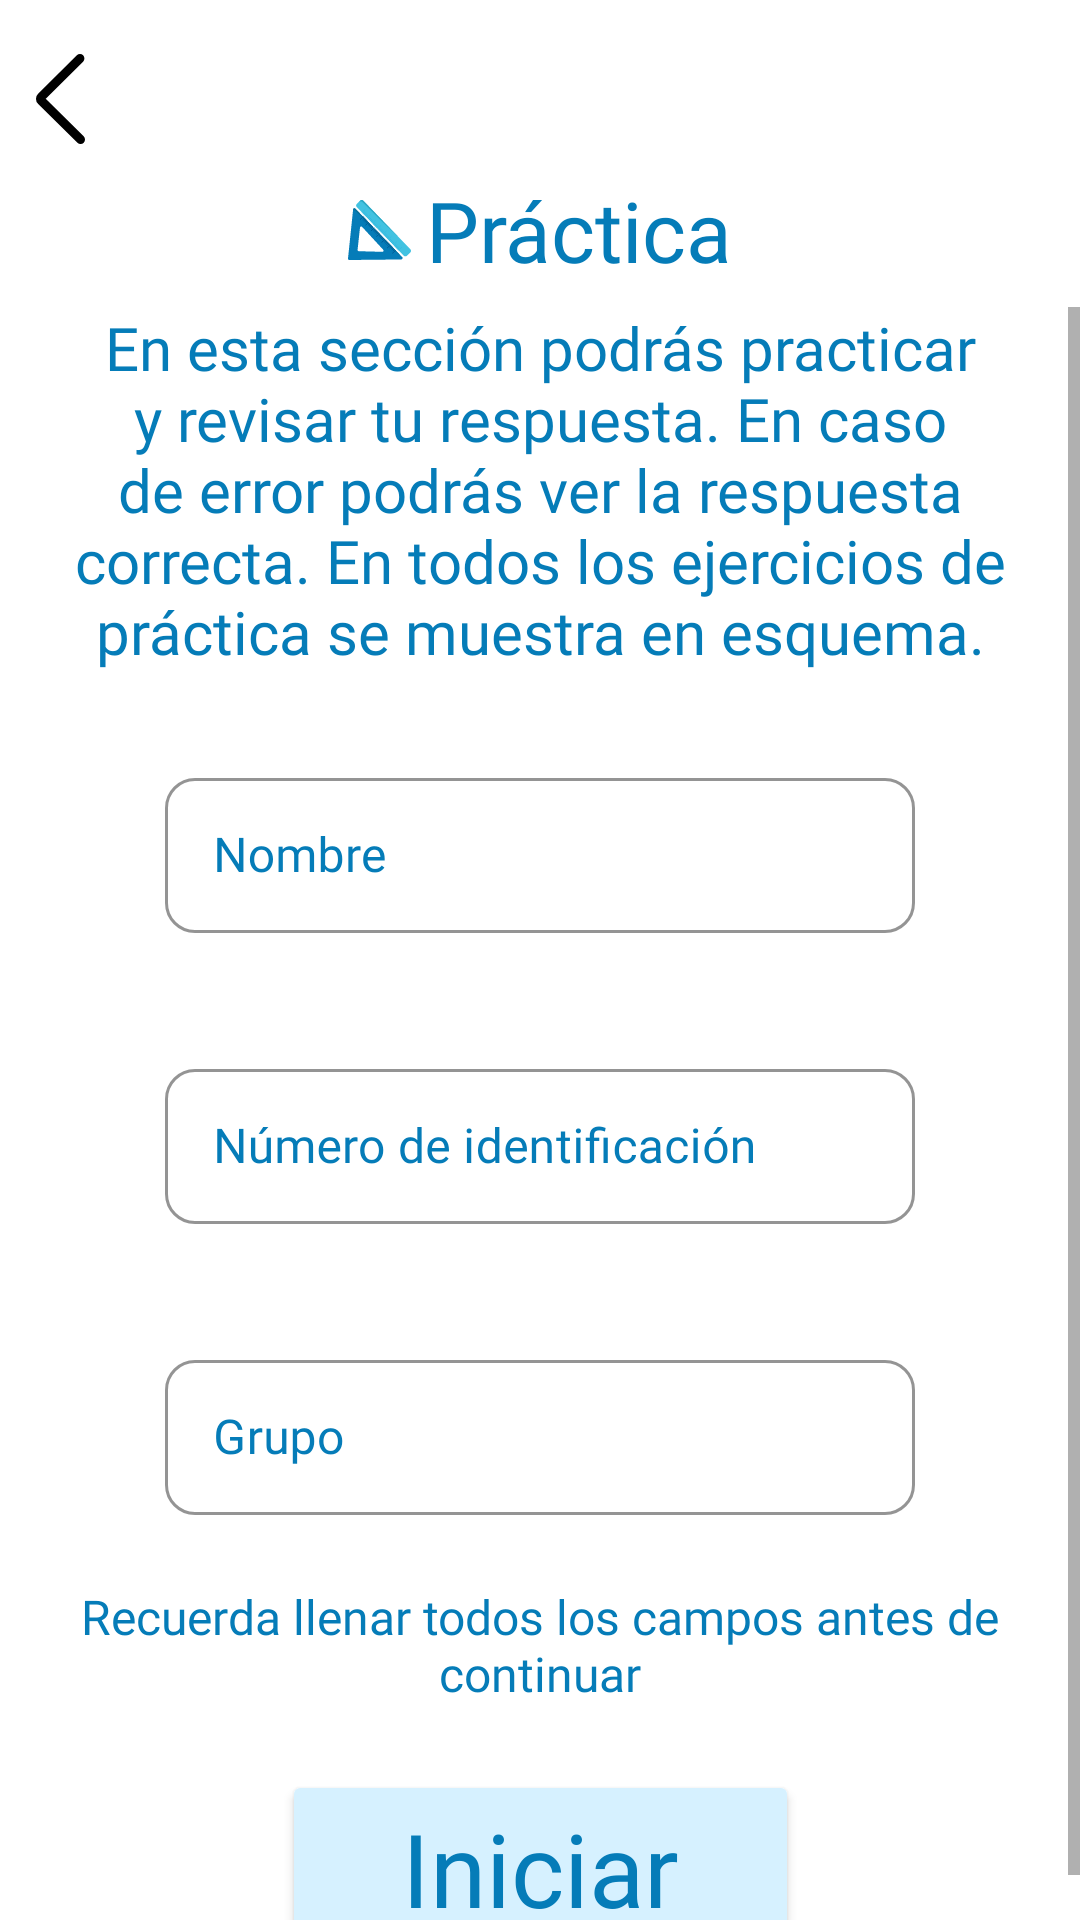

Named icons in this screenshot (1080x1920) and their bounding boxes, (x1, y1, x2, y2):
back: (36, 54, 85, 144)
